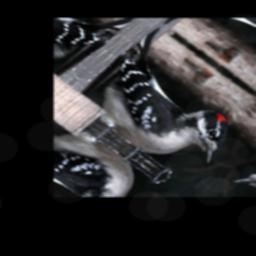Woodpecker: (65, 25, 256, 186)
